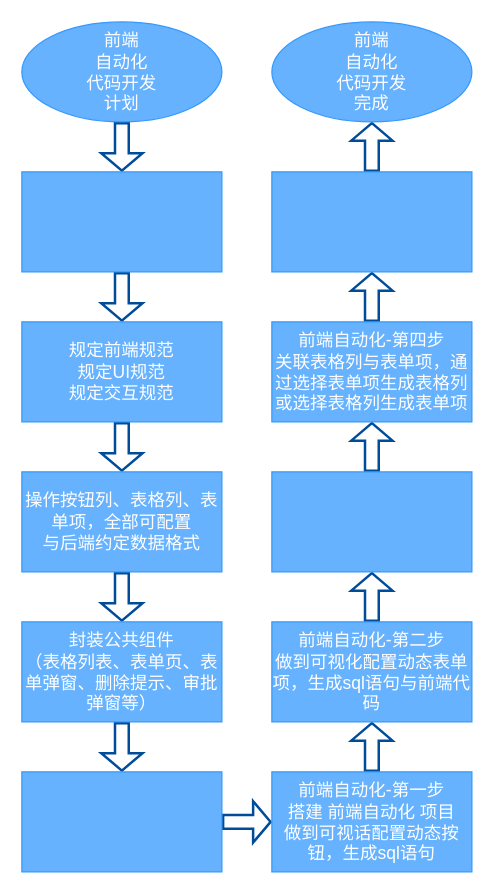
This 494x894 diagram has some shape labels left out. The centre of each missing label's shape, as x and y in pixels:
前端半自动化： 通过使用前端常用代码与数据库配置对应数据 完成基本业务: point (121, 821)
前端自动化-第三步 做到可视化配置动表格列，生成sql语句与前端代码: point (371, 521)
前端自动化-第五步 完成按钮列、表格列、表单数据 集成sql 生成前端 js、jsx文件: point (371, 221)
完善开发流程 规定组件使用: point (121, 221)
